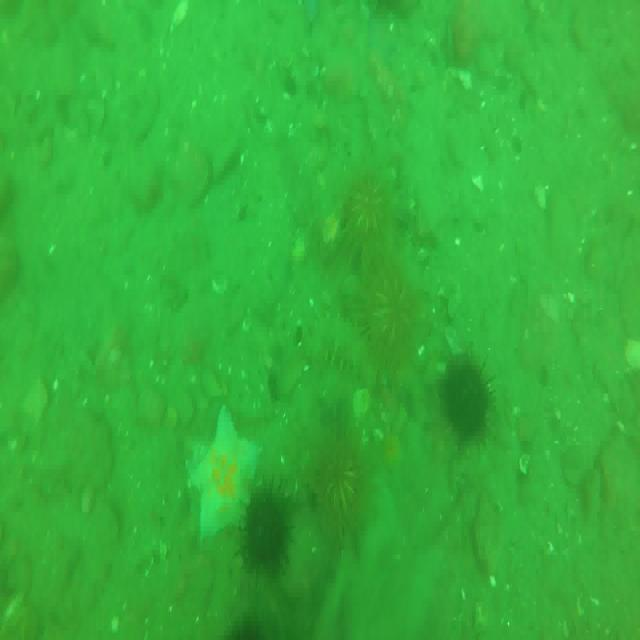echinus: (238, 479, 298, 588), (316, 436, 366, 545), (440, 354, 498, 447), (364, 276, 415, 368), (343, 164, 394, 250)
holothurian: (313, 320, 377, 392)
scallop: (290, 229, 312, 261), (324, 212, 341, 244), (352, 388, 371, 416), (518, 452, 530, 476)
starfish: (186, 407, 262, 552)
